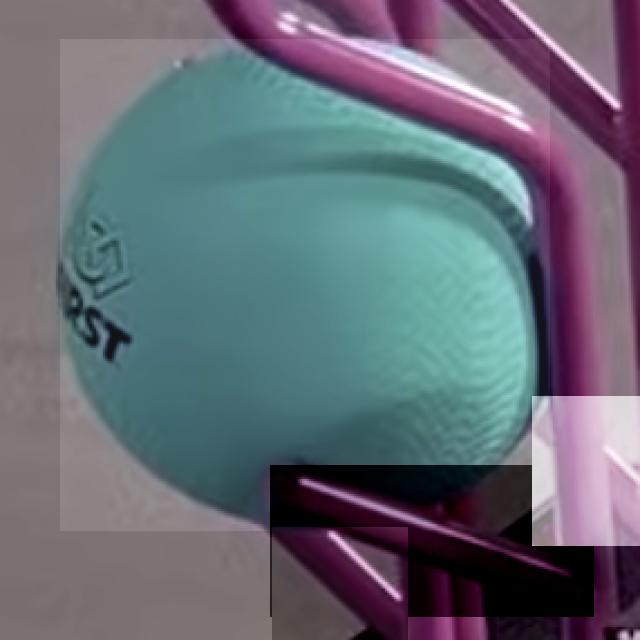Algae: (60, 39, 550, 531)
Reef: (270, 465, 594, 617), (532, 396, 640, 546), (272, 527, 408, 640)
